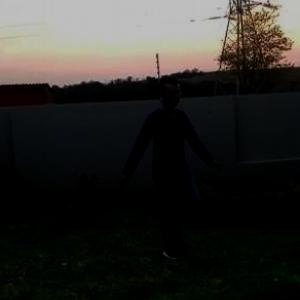land: (104, 72, 224, 273)
